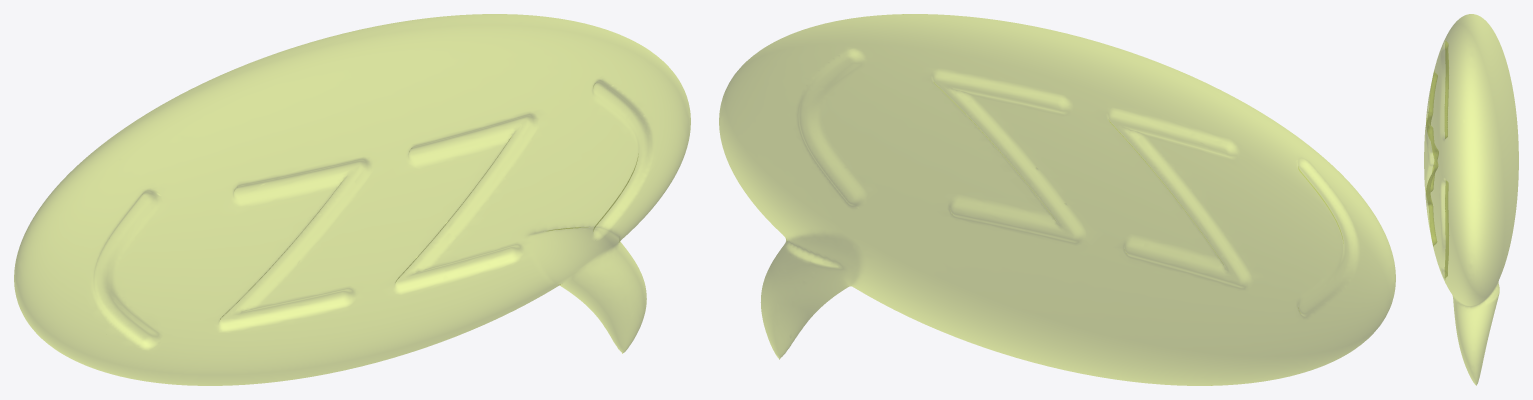
The model's file is lime-resin-bubble.glb.
The picture shows the model from 3 angles, left to right: view 1: azimuth 30°, elevation 25°; view 2: azimuth 150°, elevation 25°; view 3: azimuth 270°, elevation 25°; orthographic projection. The views are drawn at different scales.
Parts seen in each view (by area): view 1: Continuous resin bubble; view 2: Continuous resin bubble; view 3: Continuous resin bubble.
Boxes of the visible parts, left/top/right/bottom form: Continuous resin bubble: left=14, top=14, right=690, bottom=385; Continuous resin bubble: left=719, top=14, right=1395, bottom=385; Continuous resin bubble: left=1424, top=14, right=1518, bottom=385.
Size of the model in its own units: 2.48 by 1.37 by 0.4798.
